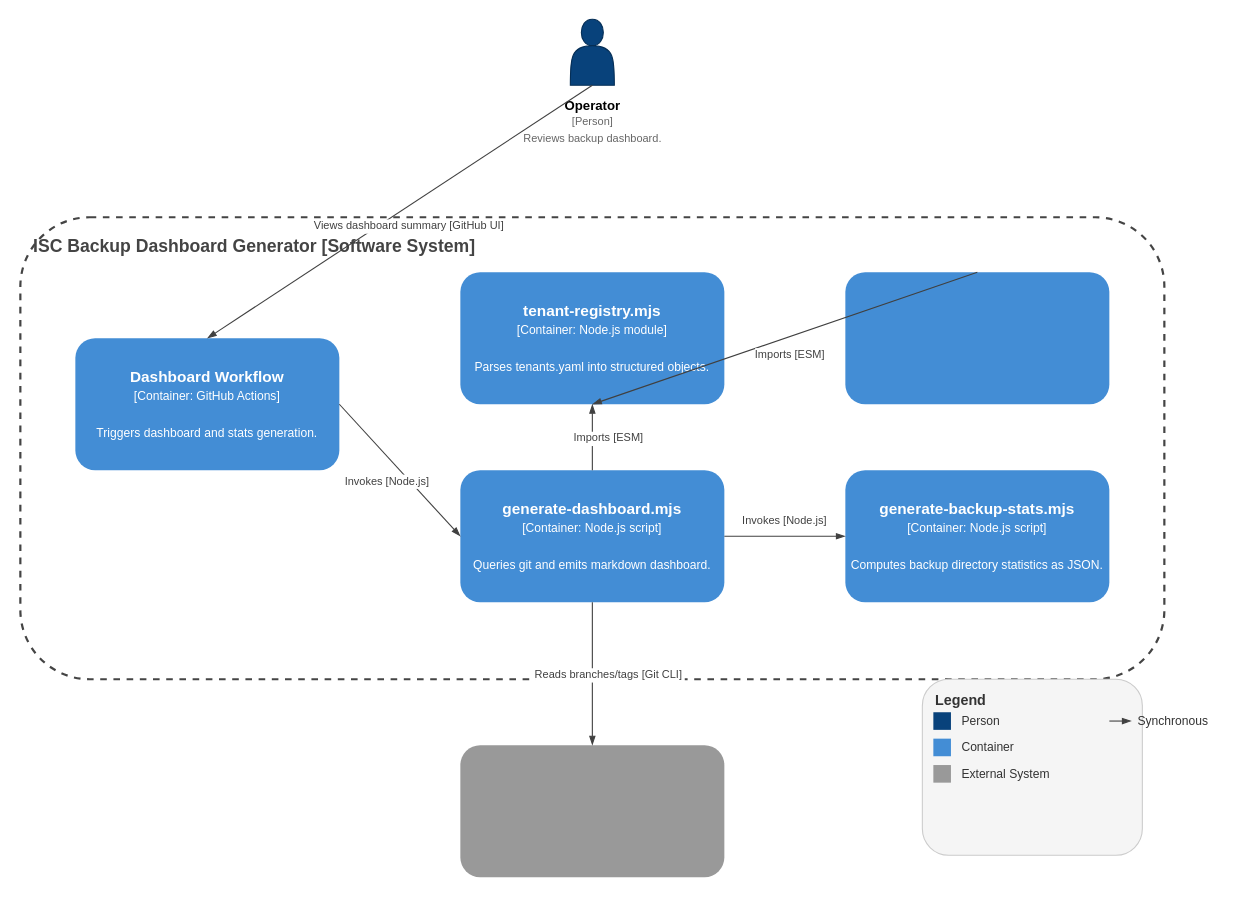
This 1253x897 diagram has some shape labels left out. The centre of each missing label's shape, as x and y in pixels:
Git Repository [External System: Git] Branches, tags, and backup objects.: the point at 592,811
parse-tenants.mjs [Container: Node.js CLI] Outputs GitHub Actions matrix JSON.: the point at 977,338
